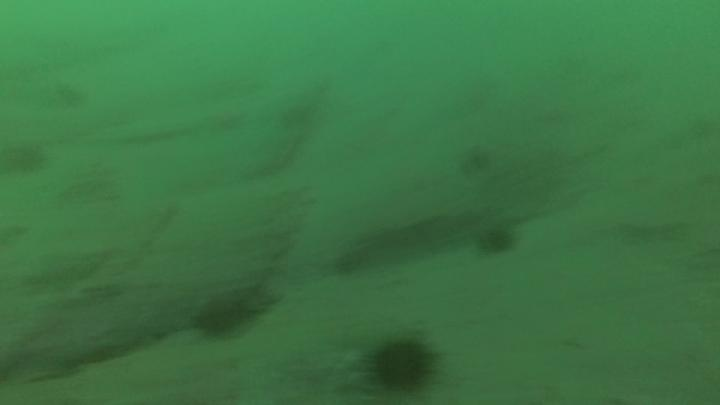echinus: (364, 333, 439, 396), (192, 292, 251, 340), (1, 138, 49, 179), (474, 222, 519, 258)
